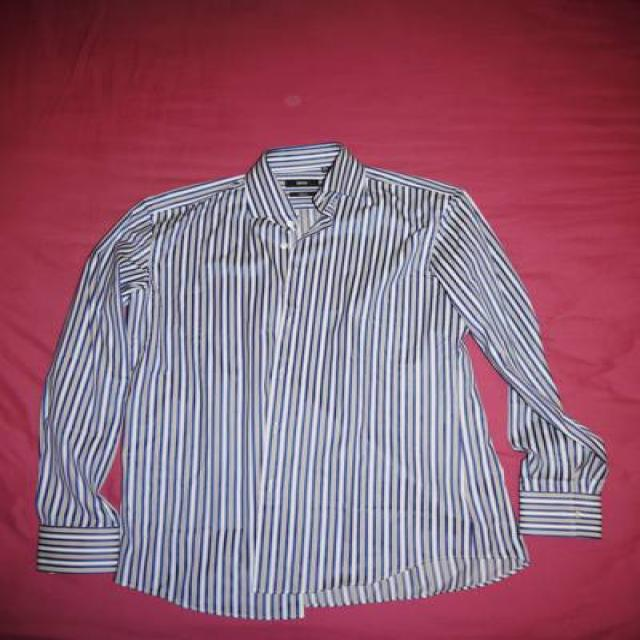non-organik: (19, 125, 637, 633)
